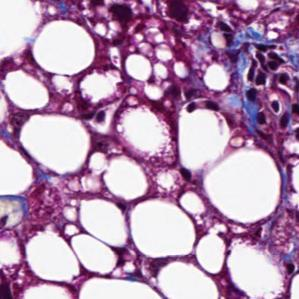inflammation: (244, 44, 297, 119), (157, 0, 211, 39), (99, 0, 148, 42)
